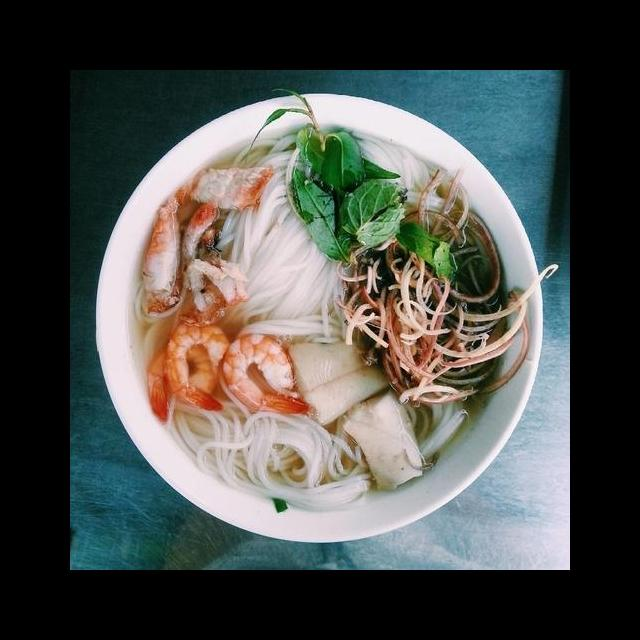bun: (203, 125, 361, 348), (160, 389, 380, 513), (348, 124, 462, 220), (399, 387, 475, 467)
ca: (282, 328, 397, 427), (340, 383, 428, 493)
rau ram: (244, 84, 404, 206), (288, 166, 363, 269)
thit heo quay: (138, 191, 186, 315), (187, 162, 277, 216), (182, 196, 218, 298)
tom: (218, 330, 314, 418), (163, 316, 238, 420), (141, 336, 225, 425)
